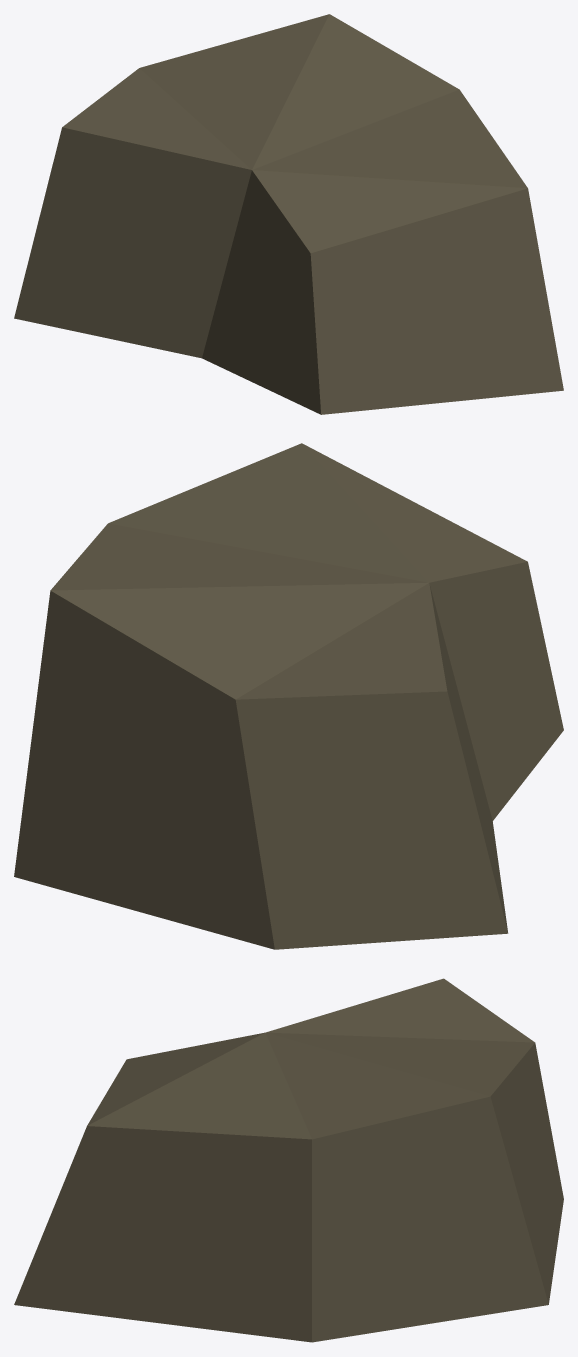
Rendered from FlatRock-C05.fbx.
3 renders of one model, top to bottom at view 1: azimuth 30°, elevation 25°; view 2: azimuth 150°, elevation 25°; view 3: azimuth 270°, elevation 25°, orthographic. The views are drawn at different scales.
Parts seen in each view (by area): view 1: FlatRock-C05; view 2: FlatRock-C05; view 3: FlatRock-C05.
Boxes of the visible parts, x1=… form: FlatRock-C05: x1=14, y1=14, x2=563, y2=414; FlatRock-C05: x1=14, y1=443, x2=563, y2=949; FlatRock-C05: x1=14, y1=978, x2=563, y2=1342.
Bounding box in the file's own units: 116 × 54.84 × 131.
